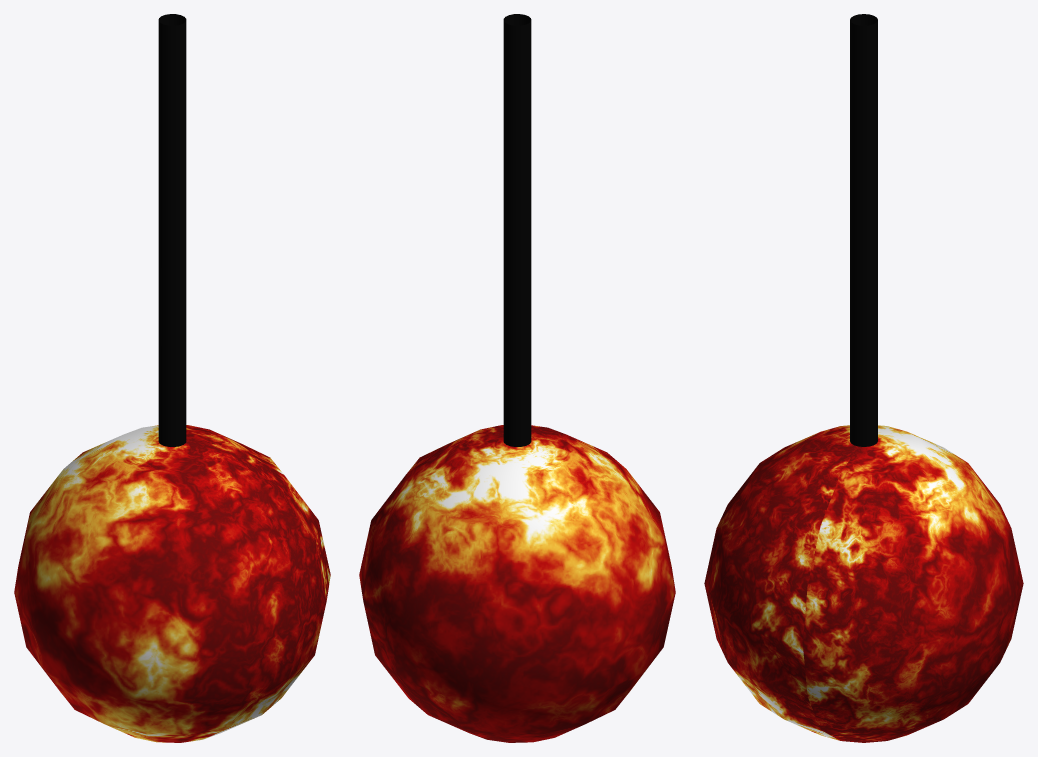
The model's file is Sun.fbx.
The picture shows the model from 3 angles, left to right: view 1: azimuth 30°, elevation 25°; view 2: azimuth 150°, elevation 25°; view 3: azimuth 270°, elevation 25°; orthographic projection.
Visible parts, largest first — view 1: Sphere.001; view 2: Sphere.001; view 3: Sphere.001.
Boxes of the visible parts, x1=… form: Sphere.001: x1=14, y1=14, x2=330, y2=742; Sphere.001: x1=359, y1=14, x2=675, y2=742; Sphere.001: x1=704, y1=14, x2=1023, y2=742.
Bounding box in the file's own units: 446 × 1091 × 446.
1 material, 1 textured.
